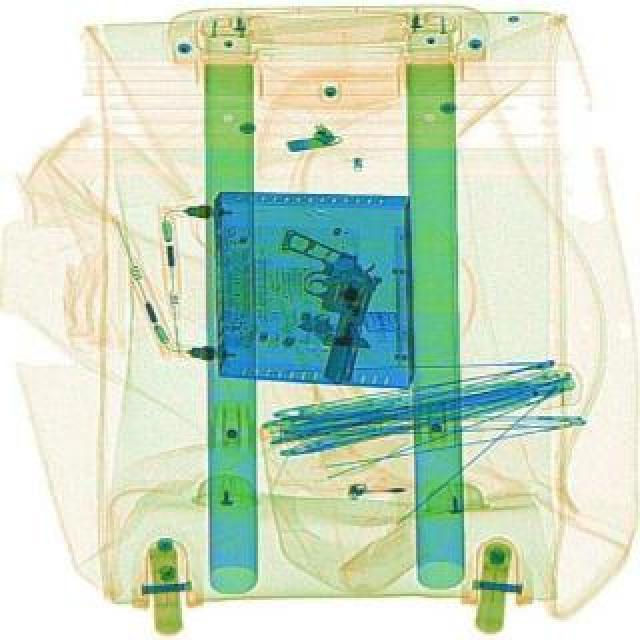gun: (252, 230, 388, 386)
